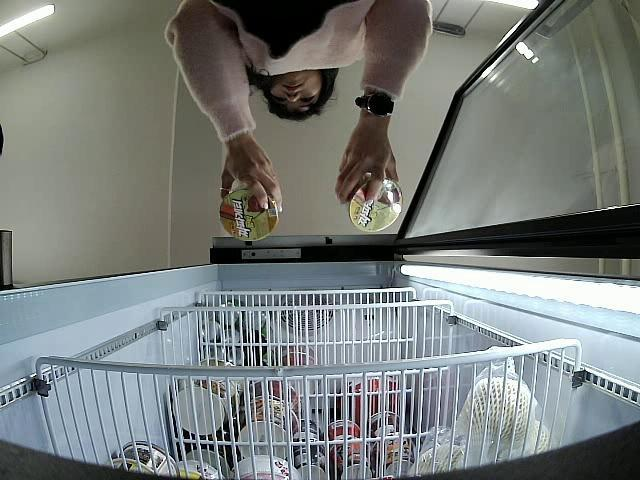04_chapagetti_S: (220, 186, 277, 243), (345, 174, 402, 231)
